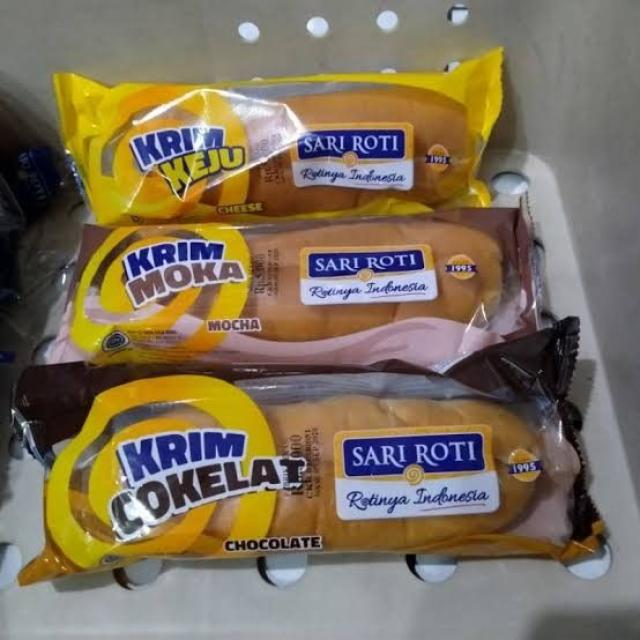KemasanPlastik: (21, 365, 619, 584), (45, 192, 555, 363), (53, 58, 511, 214)
